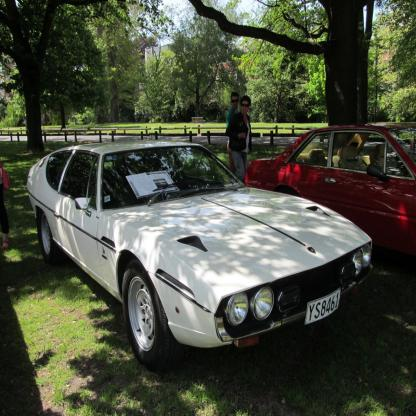Car: (27, 141, 374, 374), (246, 124, 416, 257)
